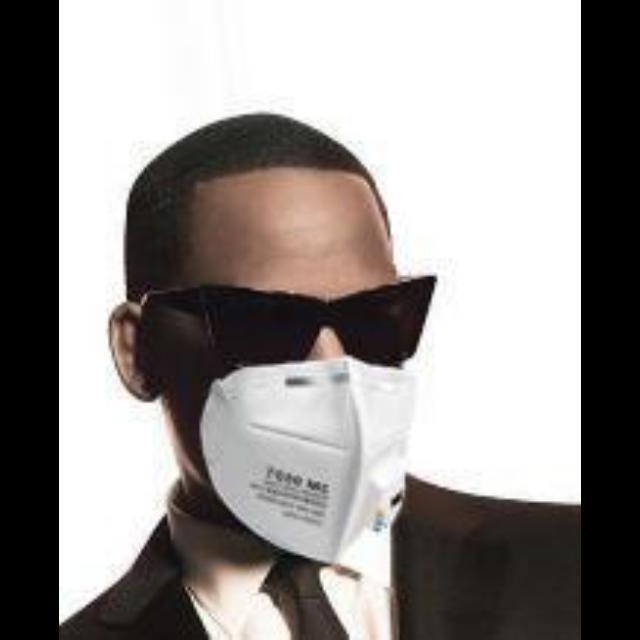suspicion: (96, 91, 468, 581)
